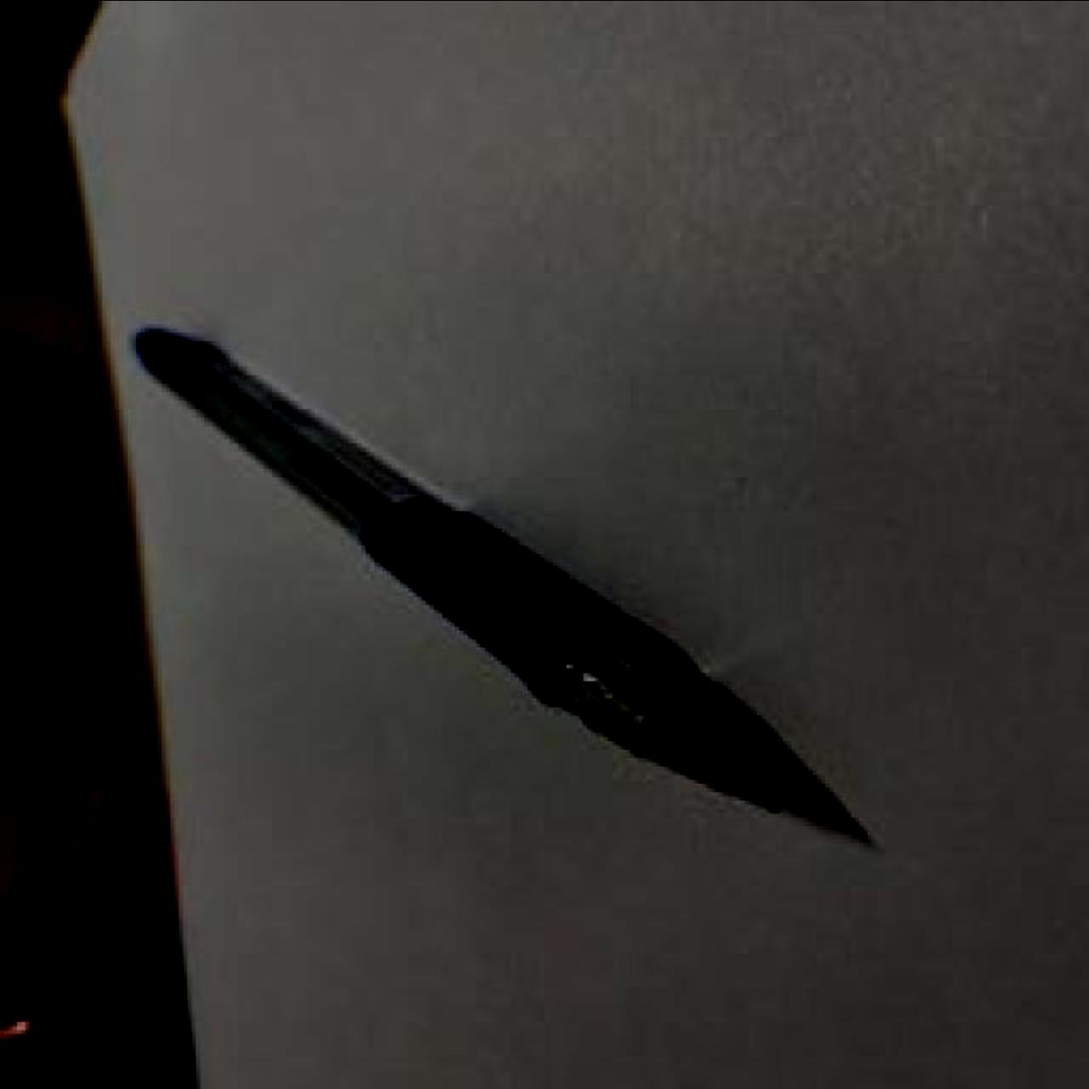pen: (128, 328, 791, 822)
